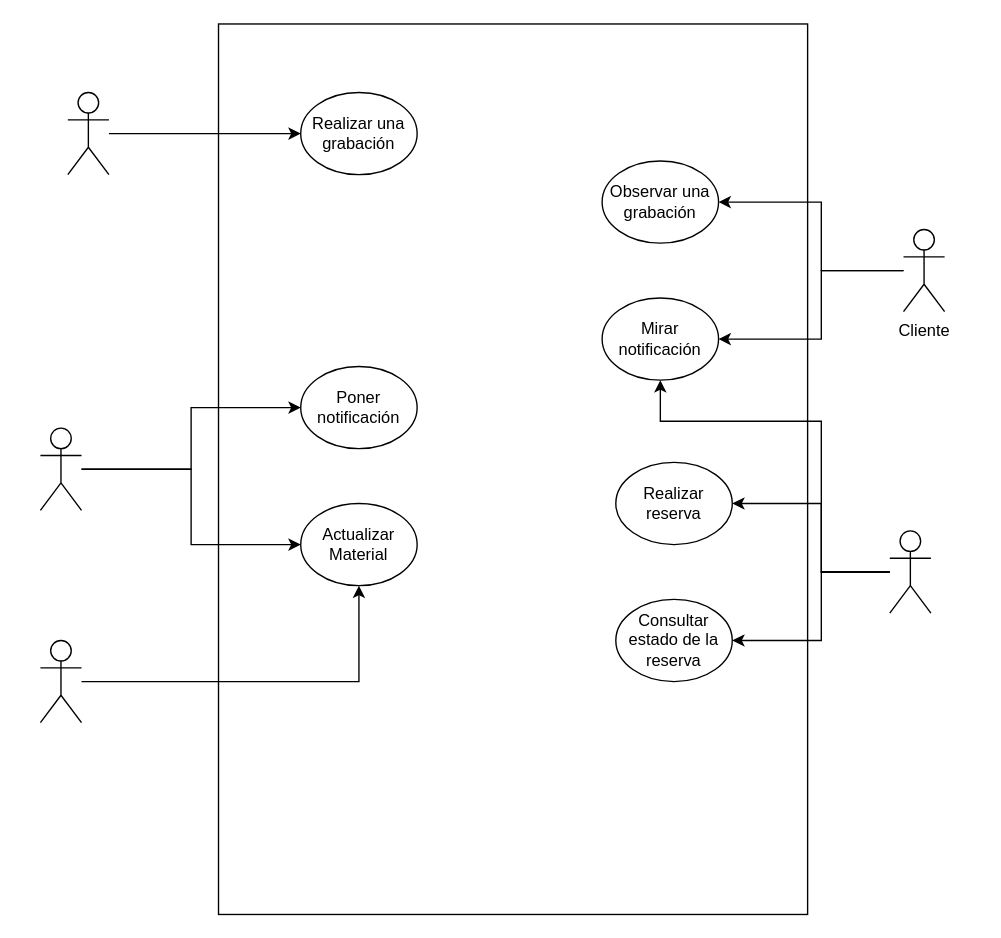
Some shapes in this 1001 by 938 pixel diagram are drawn without their labels. The shapes that lost their labels are listed below. From the top down, each one's box as (x1, y1, x2, y2) in pixels, then its label:
(66, 91, 109, 175): Camara
(39, 427, 82, 510): Jefe
(888, 530, 931, 613): Cliente esperádico
(39, 639, 82, 723): Empleado
